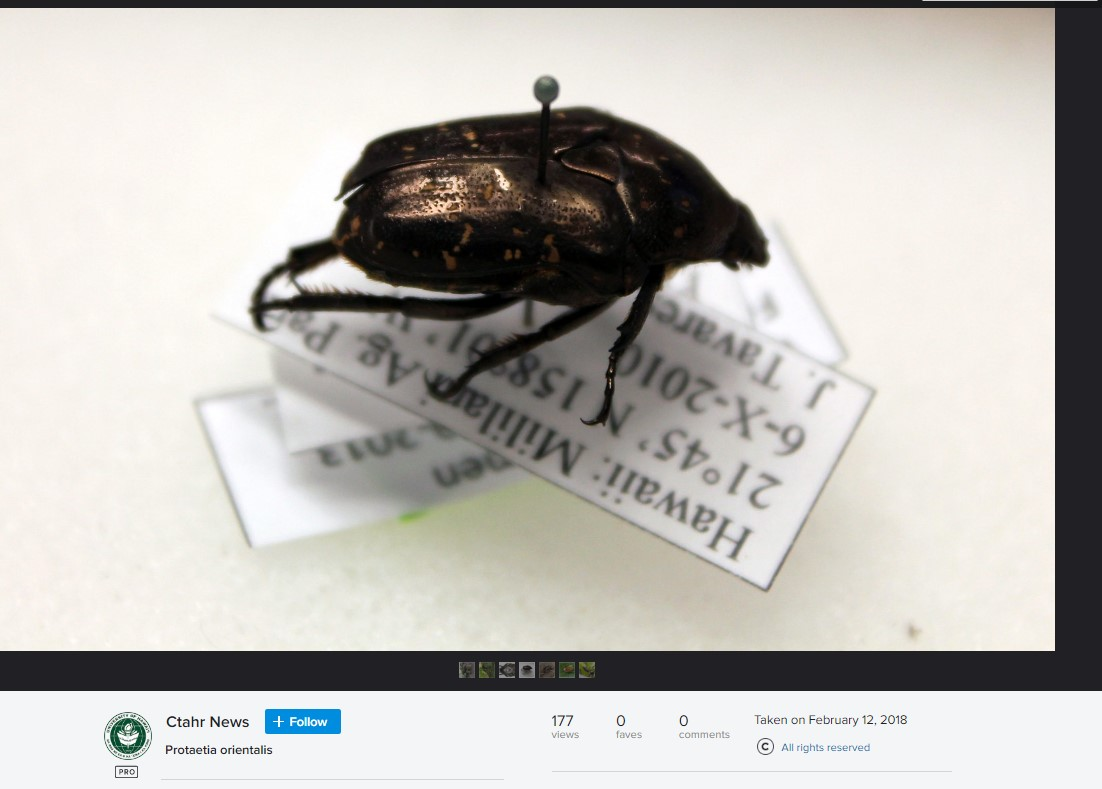Protaetia _orientalis: (240, 96, 785, 433)
